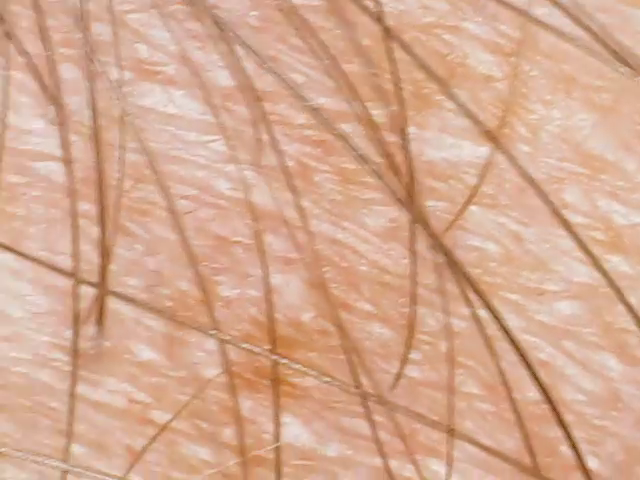folicle: (86, 319, 113, 345), (436, 221, 461, 245), (67, 306, 91, 331), (375, 375, 398, 401)
